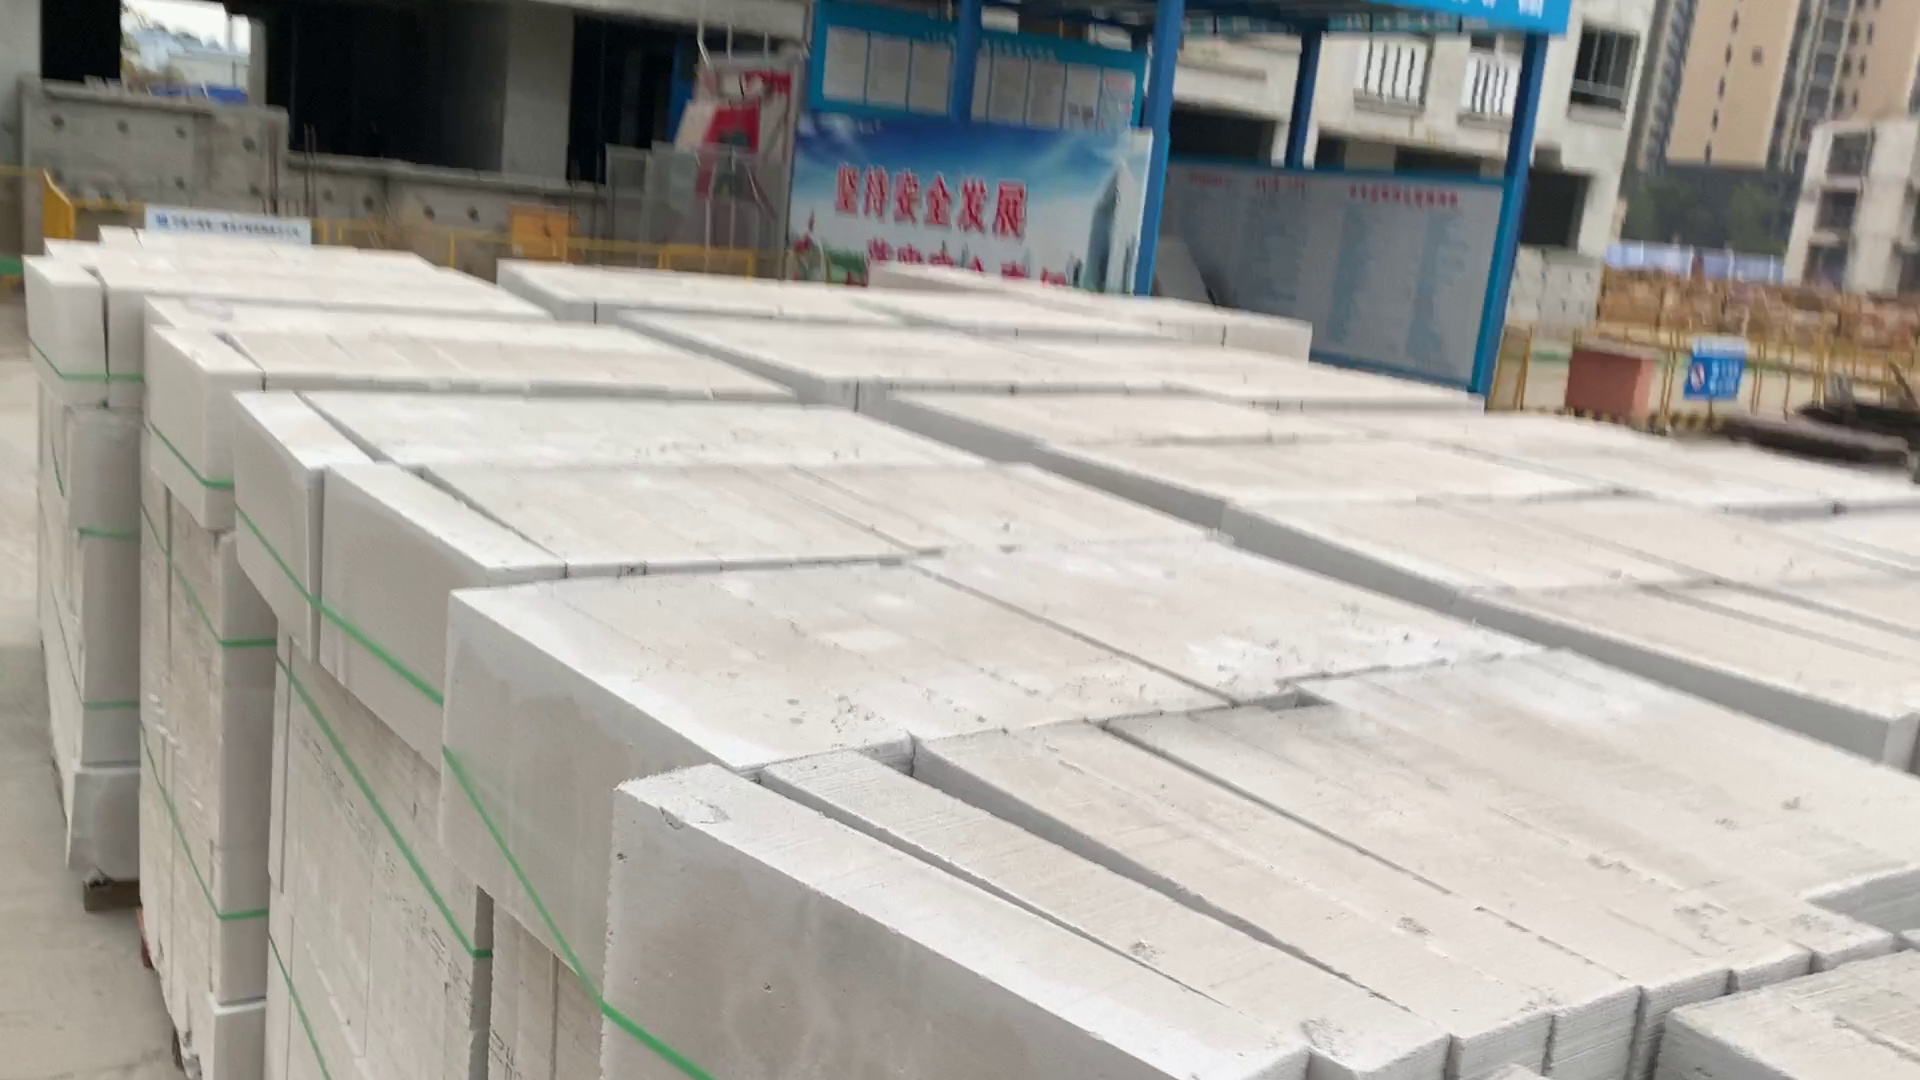brickwork: (604, 662, 1920, 1077), (247, 389, 1232, 576), (462, 572, 1549, 738), (622, 318, 1470, 404), (1495, 585, 1919, 749), (167, 295, 791, 404), (1370, 398, 1911, 510), (1226, 500, 1888, 588), (36, 223, 546, 319), (1047, 436, 1627, 502), (500, 249, 902, 327), (884, 386, 1320, 434), (864, 280, 1156, 335)
